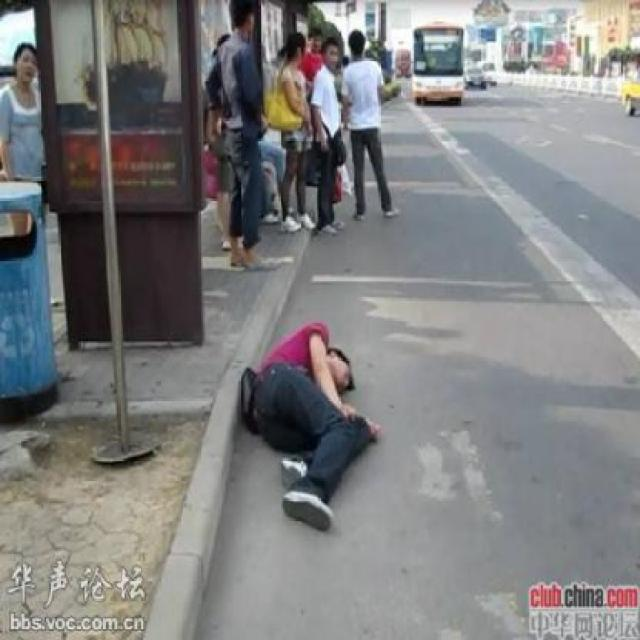fall: (228, 306, 384, 536)
